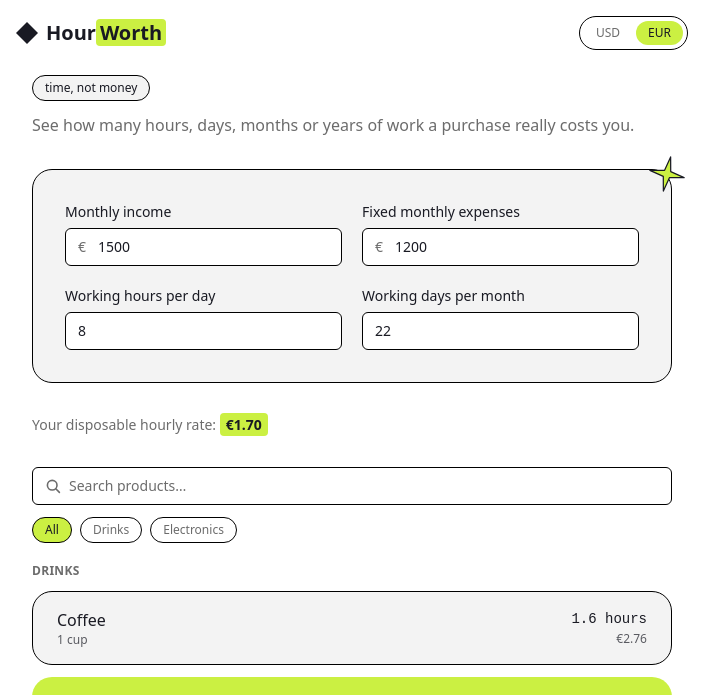
Scenario: App › filters the catalog by category
The image size is (705, 695).
Check: the text "Coffee" is shown, box [57,608,106,632]
Click the button "Electronics" at {"x": 194, "y": 530}, box [150,517,237,543]
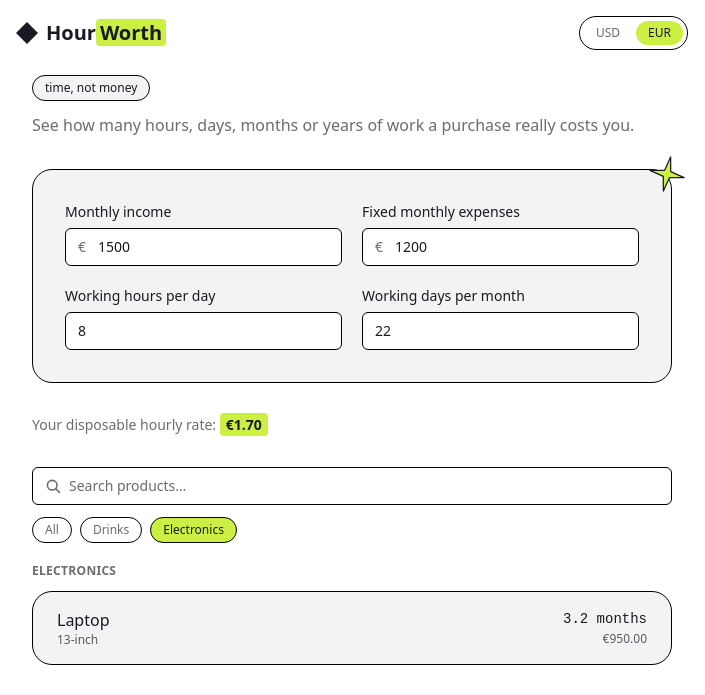
Check: the text "Laptop" is shown, box [57,608,110,632]
Check: the text "Coffee" is gone
Click the button "All" at {"x": 52, "y": 530}, box [32,517,72,543]
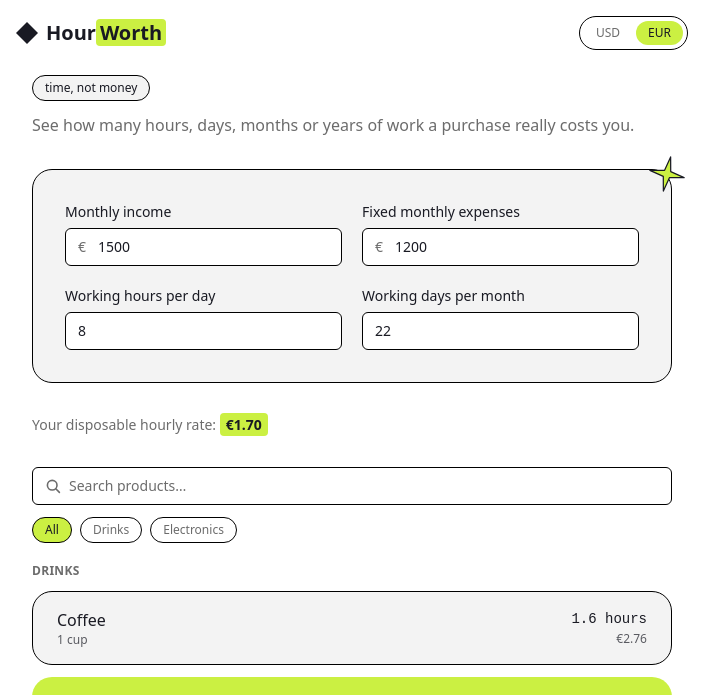
Check: the text "Coffee" is shown, box [57,608,106,632]
